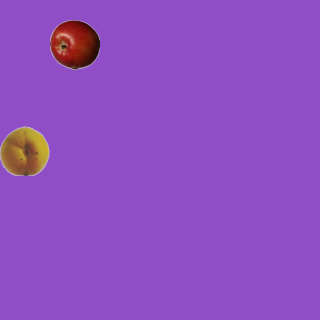Apple Braeburn: (49, 19, 99, 69)
Peach 2: (0, 125, 49, 175)
